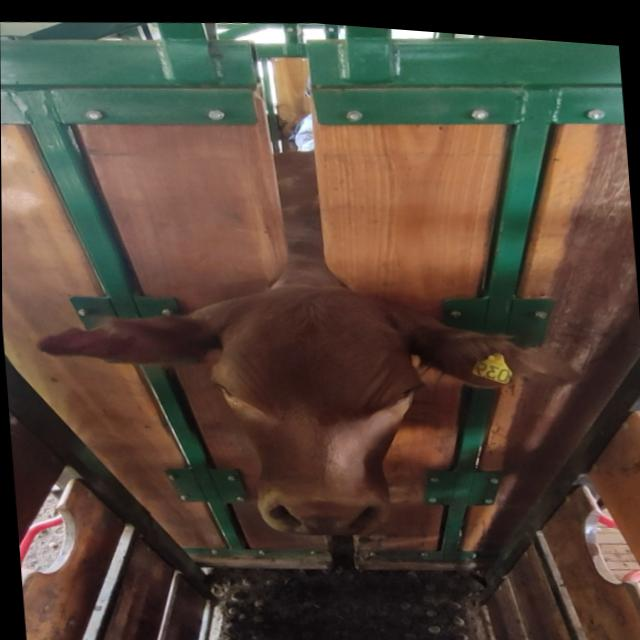cowFace: (203, 271, 435, 541)
